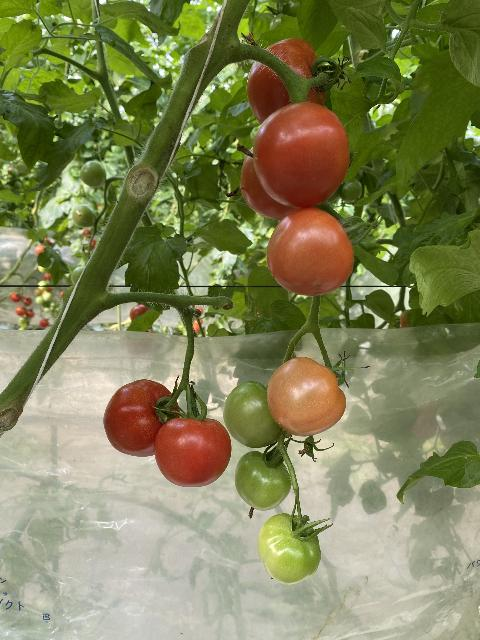l_fully_ripened: (252, 100, 350, 209), (247, 37, 327, 123), (102, 378, 180, 457), (152, 417, 232, 488), (240, 149, 302, 221)
l_green: (258, 513, 322, 584), (222, 381, 288, 448), (235, 450, 291, 510)
l_half_ripened: (267, 207, 354, 295), (265, 355, 347, 436)
